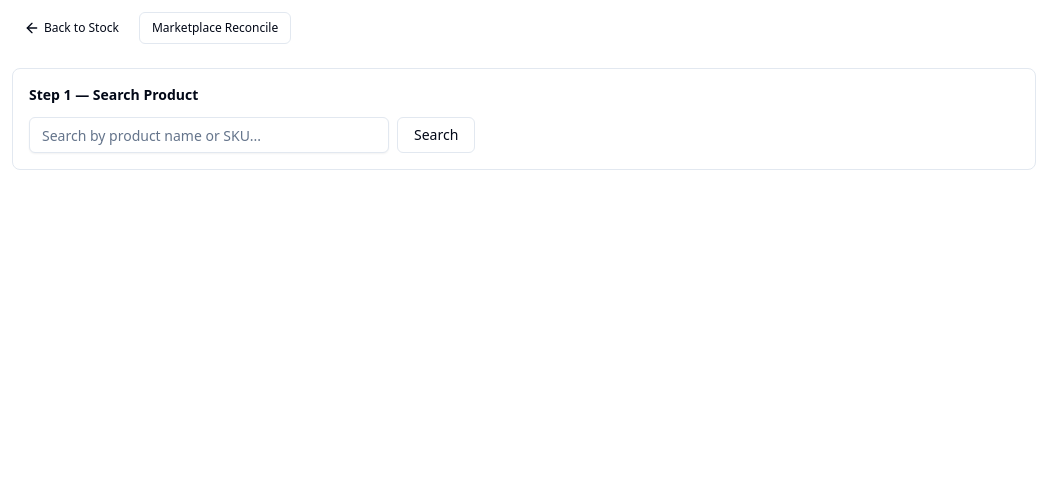
Test case: shows current stock column after adding a variant
In the field with placeholder "Search by product name or SKU...": (209, 135) [29,117,389,153], type "Shirt"
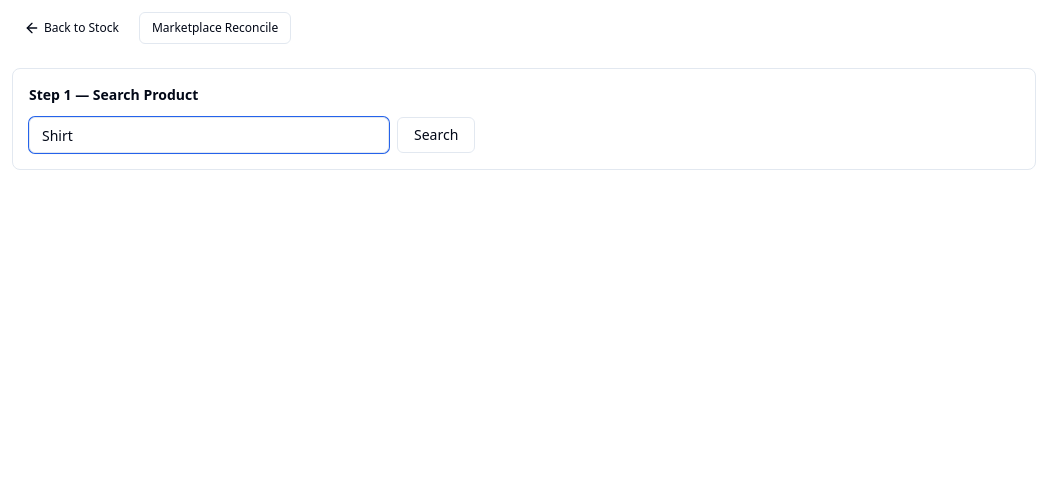
Press Enter
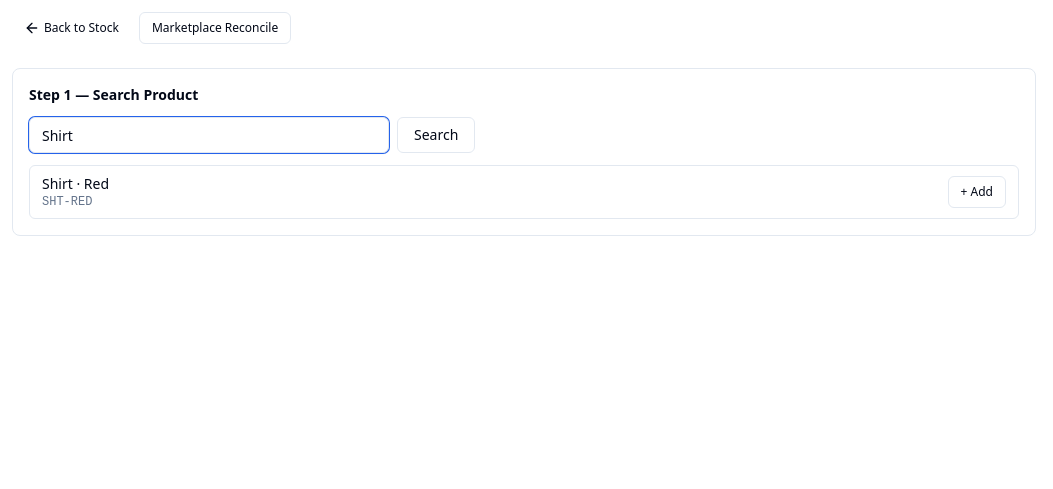
Click the button "+ Add": (977, 192) [948,176,1006,208]
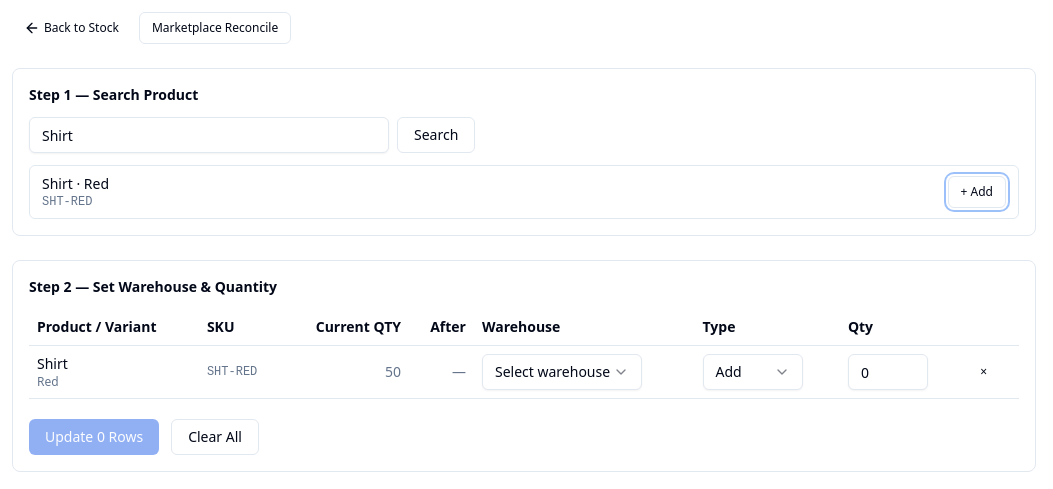
Expected: the column heading "Current QTY" is shown, [282,309,409,346]
Expected: the text "50" is shown, [282,346,409,398]
